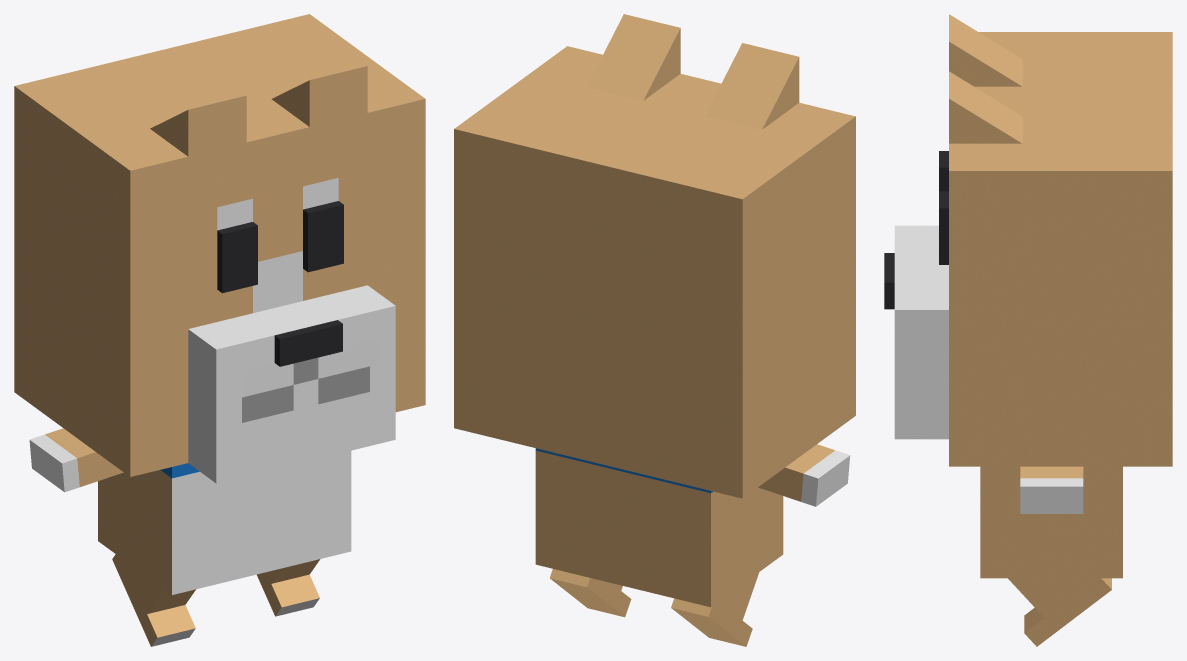
3 renders of one model, left to right at view 1: azimuth 30°, elevation 25°; view 2: azimuth 150°, elevation 25°; view 3: azimuth 270°, elevation 25°, orthographic. The views are drawn at different scales.
Visible parts, largest first — view 1: Ch_04, Ch_04_Leg_L, Ch_04_Wing_L, Ch_04_Leg_R; view 2: Ch_04, Ch_04_Wing_L, Ch_04_Leg_L, Ch_04_Leg_R; view 3: Ch_04, Ch_04_Leg_R, Ch_04_Wing_R.
Boxes of the visible parts, x1,y1,x2,y2 form: Ch_04: (14, 14, 425, 594); Ch_04_Leg_L: (112, 554, 195, 646); Ch_04_Wing_L: (29, 428, 123, 492); Ch_04_Leg_R: (257, 559, 320, 616); Ch_04: (454, 14, 855, 607); Ch_04_Wing_L: (758, 444, 850, 506); Ch_04_Leg_L: (671, 572, 758, 646); Ch_04_Leg_R: (550, 569, 631, 617); Ch_04: (884, 14, 1172, 578); Ch_04_Leg_R: (1008, 578, 1111, 646); Ch_04_Wing_R: (1020, 466, 1083, 513).
Size of the model in its own units: 9.07 by 13.87 by 6.56.
